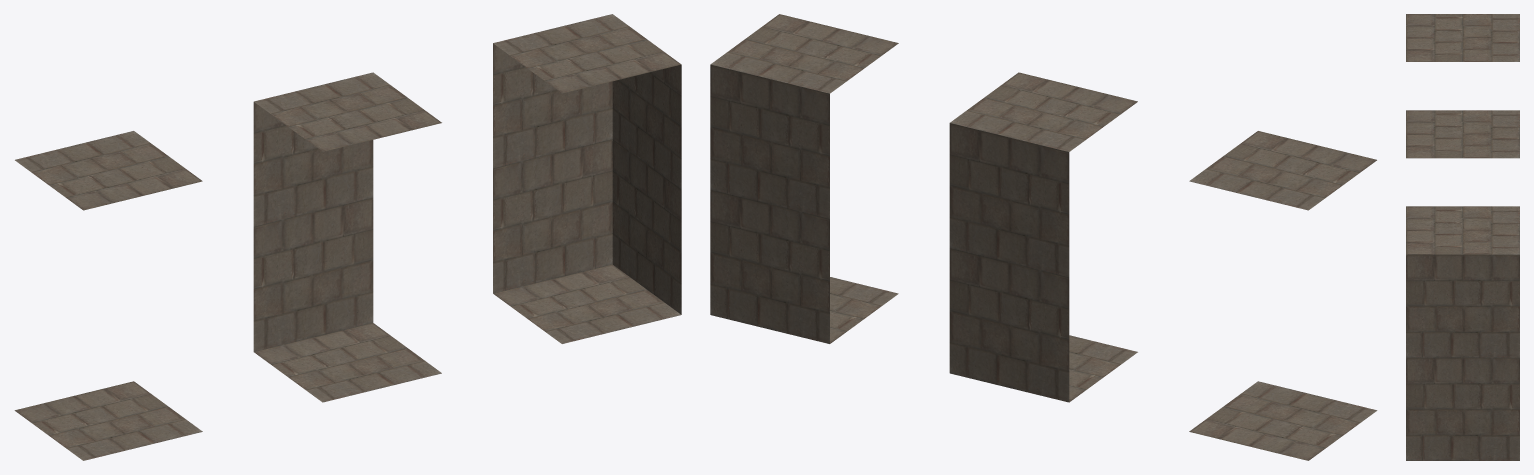
File: cell.glb
3 views of the same model, side by side, from view 1: azimuth 30°, elevation 25°; view 2: azimuth 150°, elevation 25°; view 3: azimuth 270°, elevation 25° (orthographic). The views are drawn at different scales.
Parts seen in each view (by area): view 1: corner-col, wall-col, floor-col; view 2: wall-col, corner-col, floor-col; view 3: corner-col, wall-col, floor-col.
Boxes of the visible parts, x1,y1,x2,y2 form: corner-col: [493, 14, 681, 343]; wall-col: [253, 72, 441, 402]; floor-col: [14, 131, 202, 460]; wall-col: [949, 72, 1137, 402]; corner-col: [710, 14, 898, 343]; floor-col: [1189, 131, 1377, 460]; corner-col: [1406, 206, 1519, 460]; wall-col: [1406, 110, 1519, 158]; floor-col: [1406, 14, 1519, 61].
Size of the model in its own units: 5 by 2 by 1.
1 material, 1 textured.
